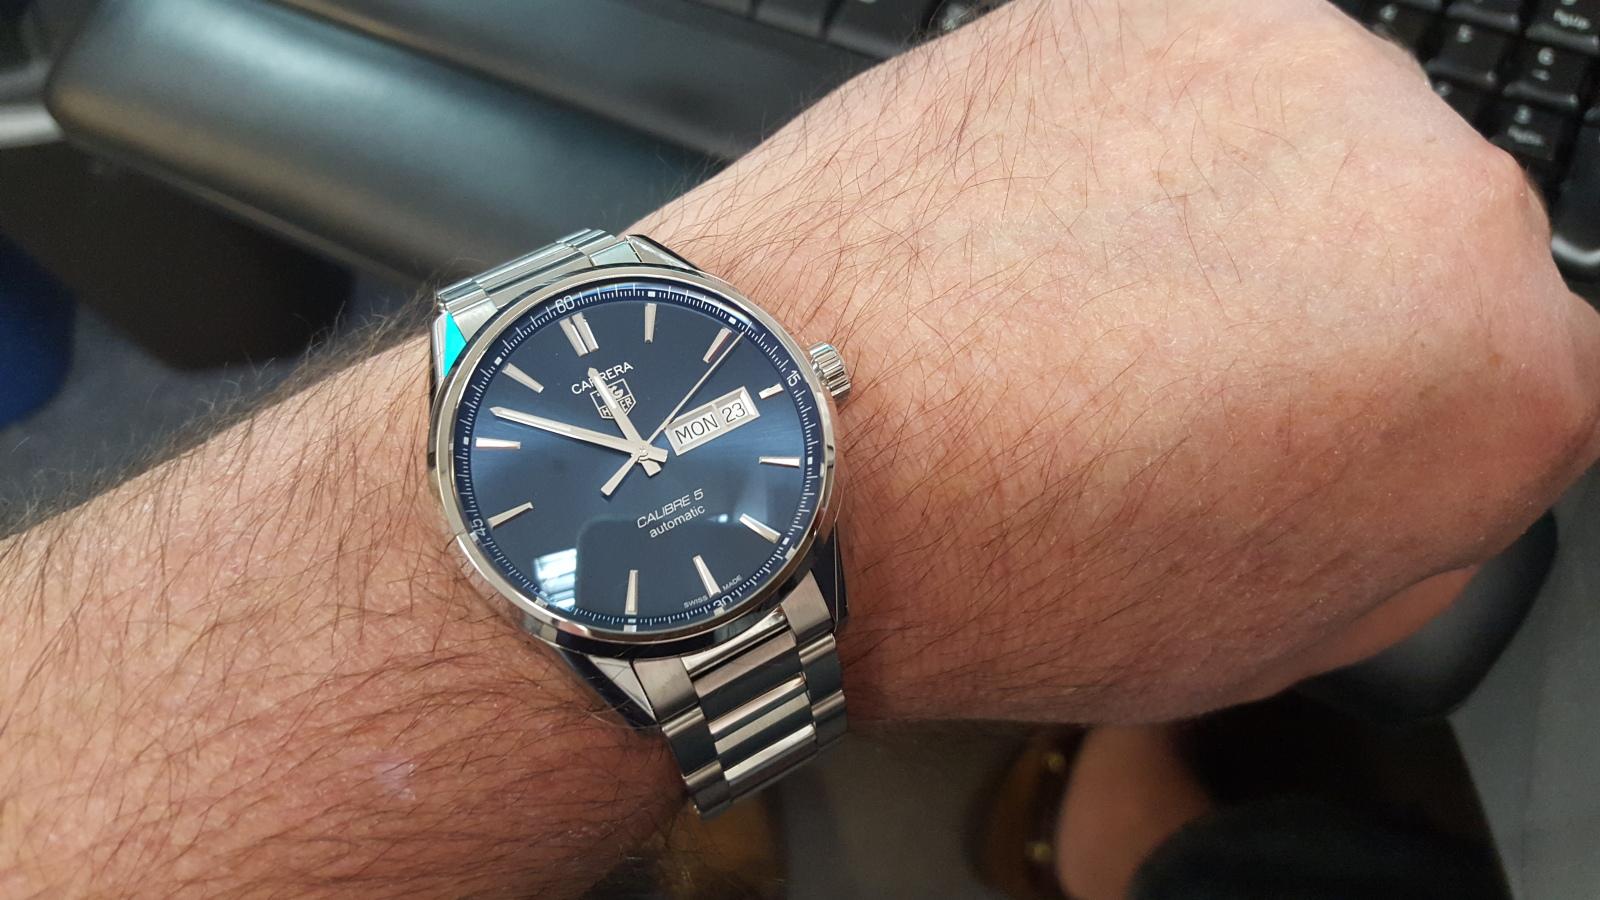clock: (448, 280, 824, 627)
